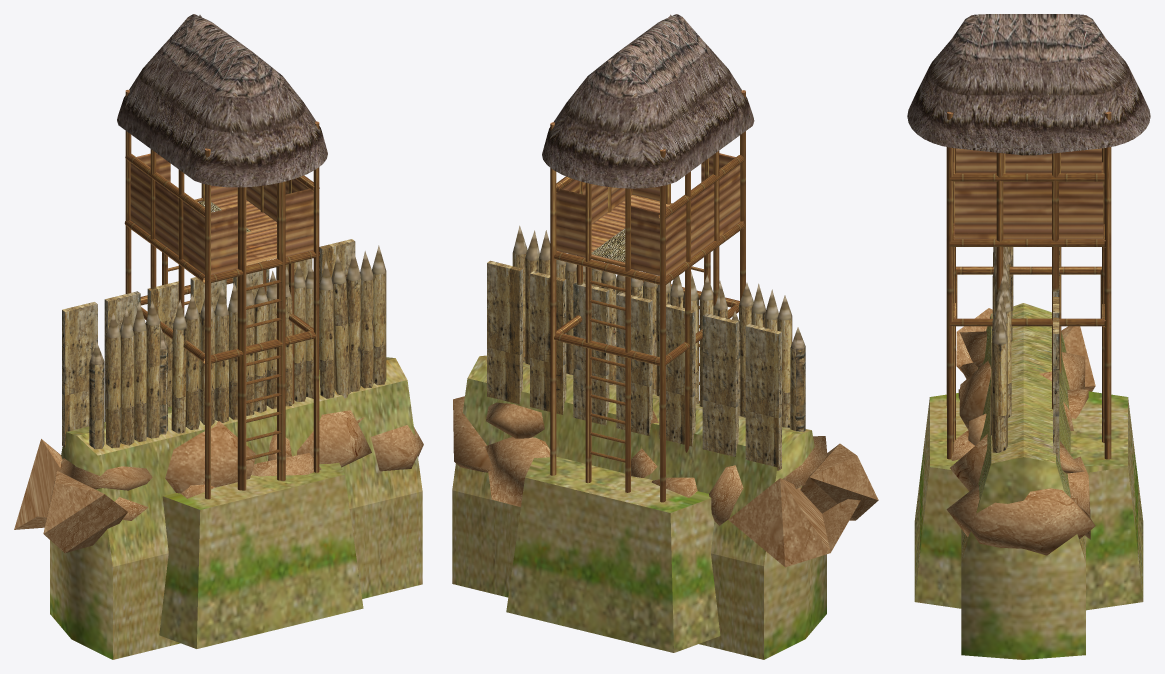
File: tupis_wall_tower.dae
The picture shows the model from 3 angles, left to right: view 1: azimuth 30°, elevation 25°; view 2: azimuth 150°, elevation 25°; view 3: azimuth 270°, elevation 25°; orthographic projection.
Parts seen in each view (by area): view 1: wall_tower; view 2: wall_tower; view 3: wall_tower.
Part boxes in pixels (x1=…): wall_tower: x1=14, y1=14, x2=423, y2=659; wall_tower: x1=452, y1=14, x2=878, y2=659; wall_tower: x1=907, y1=14, x2=1150, y2=659.
Bounding box in the file's own units: 17.1 × 9.29 × 23.57.
